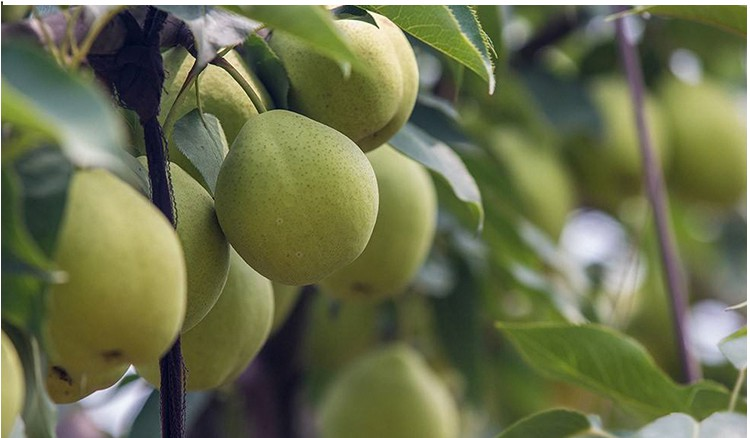pear: (212, 110, 378, 289), (35, 168, 187, 362), (125, 200, 272, 394), (266, 2, 419, 156), (108, 157, 230, 345), (130, 40, 284, 175), (304, 138, 437, 293)
